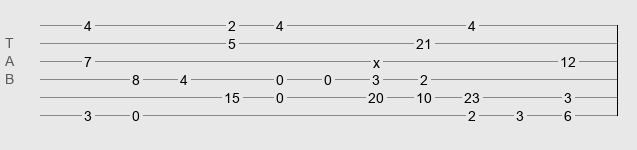0: (132, 108, 140, 118), (276, 72, 284, 82), (276, 90, 284, 100), (324, 72, 332, 82)
10: (416, 90, 432, 100)
12: (560, 54, 576, 64)
15: (224, 90, 240, 100)
2: (228, 18, 236, 28), (420, 72, 428, 82), (468, 108, 476, 118)
20: (368, 90, 384, 100)
21: (416, 36, 432, 46)
23: (464, 90, 480, 100)
3: (84, 108, 92, 118), (372, 72, 380, 82), (516, 108, 524, 118), (564, 90, 572, 100)
4: (84, 18, 92, 28), (180, 72, 188, 82), (276, 18, 284, 28), (468, 18, 476, 28)
5: (228, 36, 236, 46)
6: (564, 108, 572, 118)
7: (84, 54, 92, 64)
8: (132, 72, 140, 82)
x: (373, 55, 380, 63)
